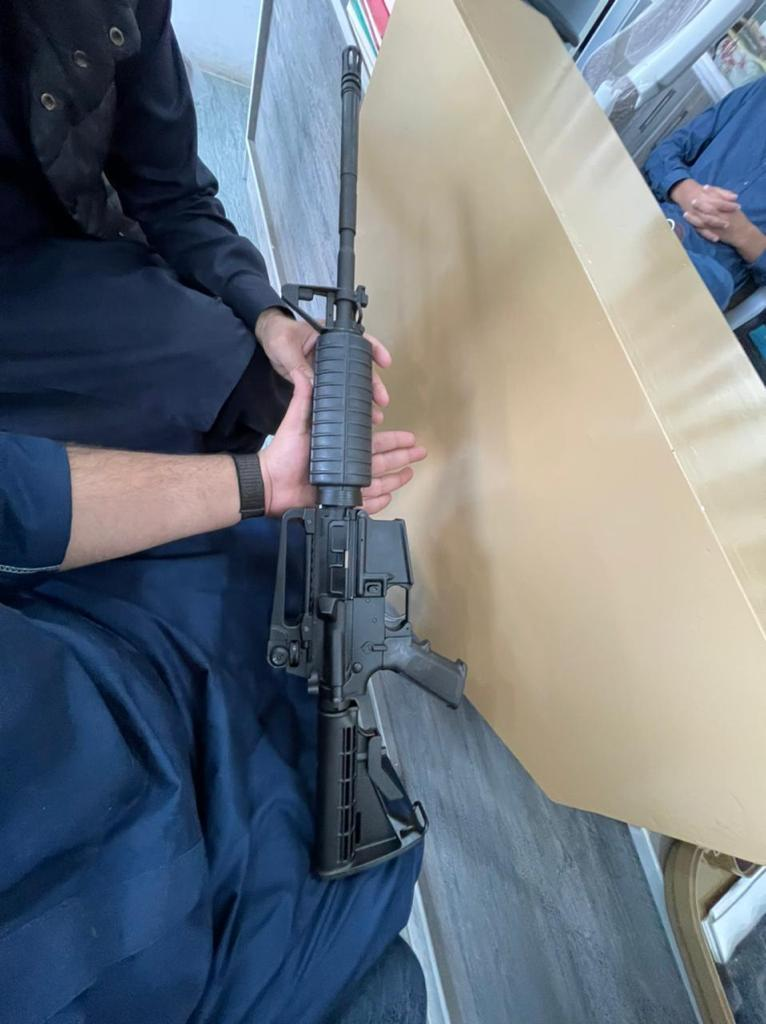weapon: (267, 44, 468, 882)
